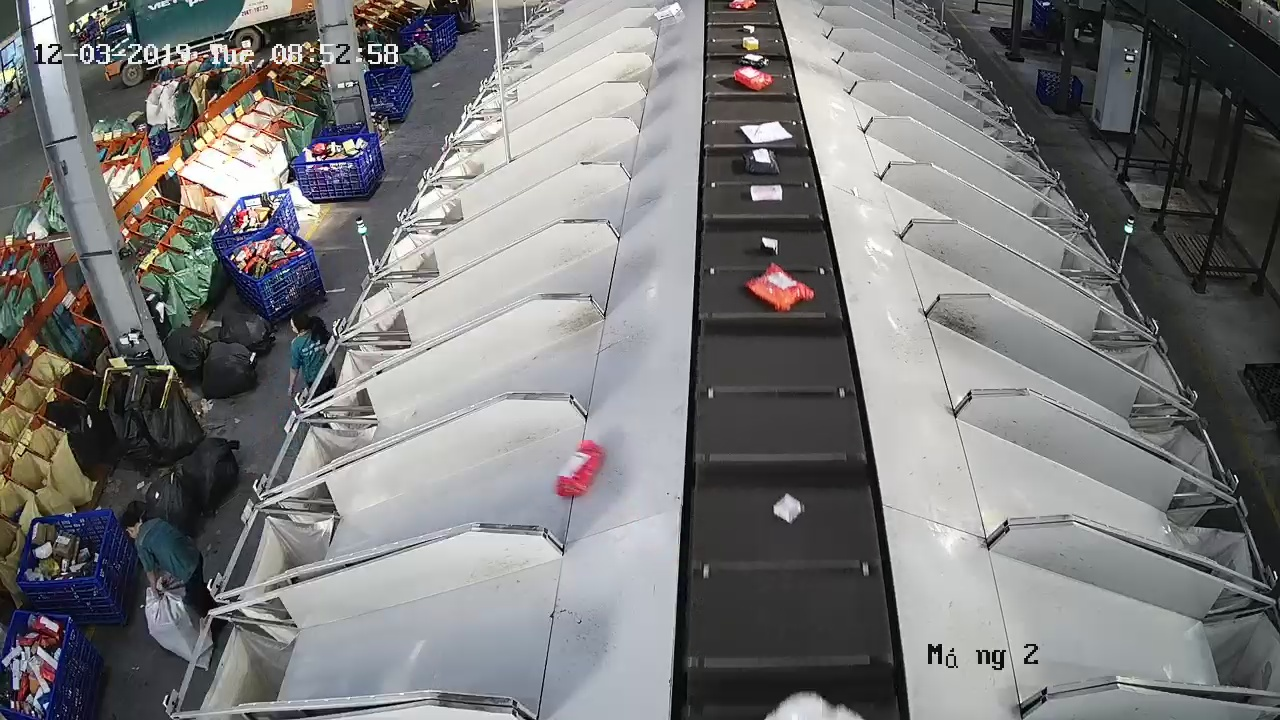parcel: (743, 260, 817, 313), (553, 437, 608, 499), (738, 119, 795, 146), (740, 147, 782, 176), (772, 492, 807, 526), (748, 182, 784, 203), (759, 235, 780, 257)
